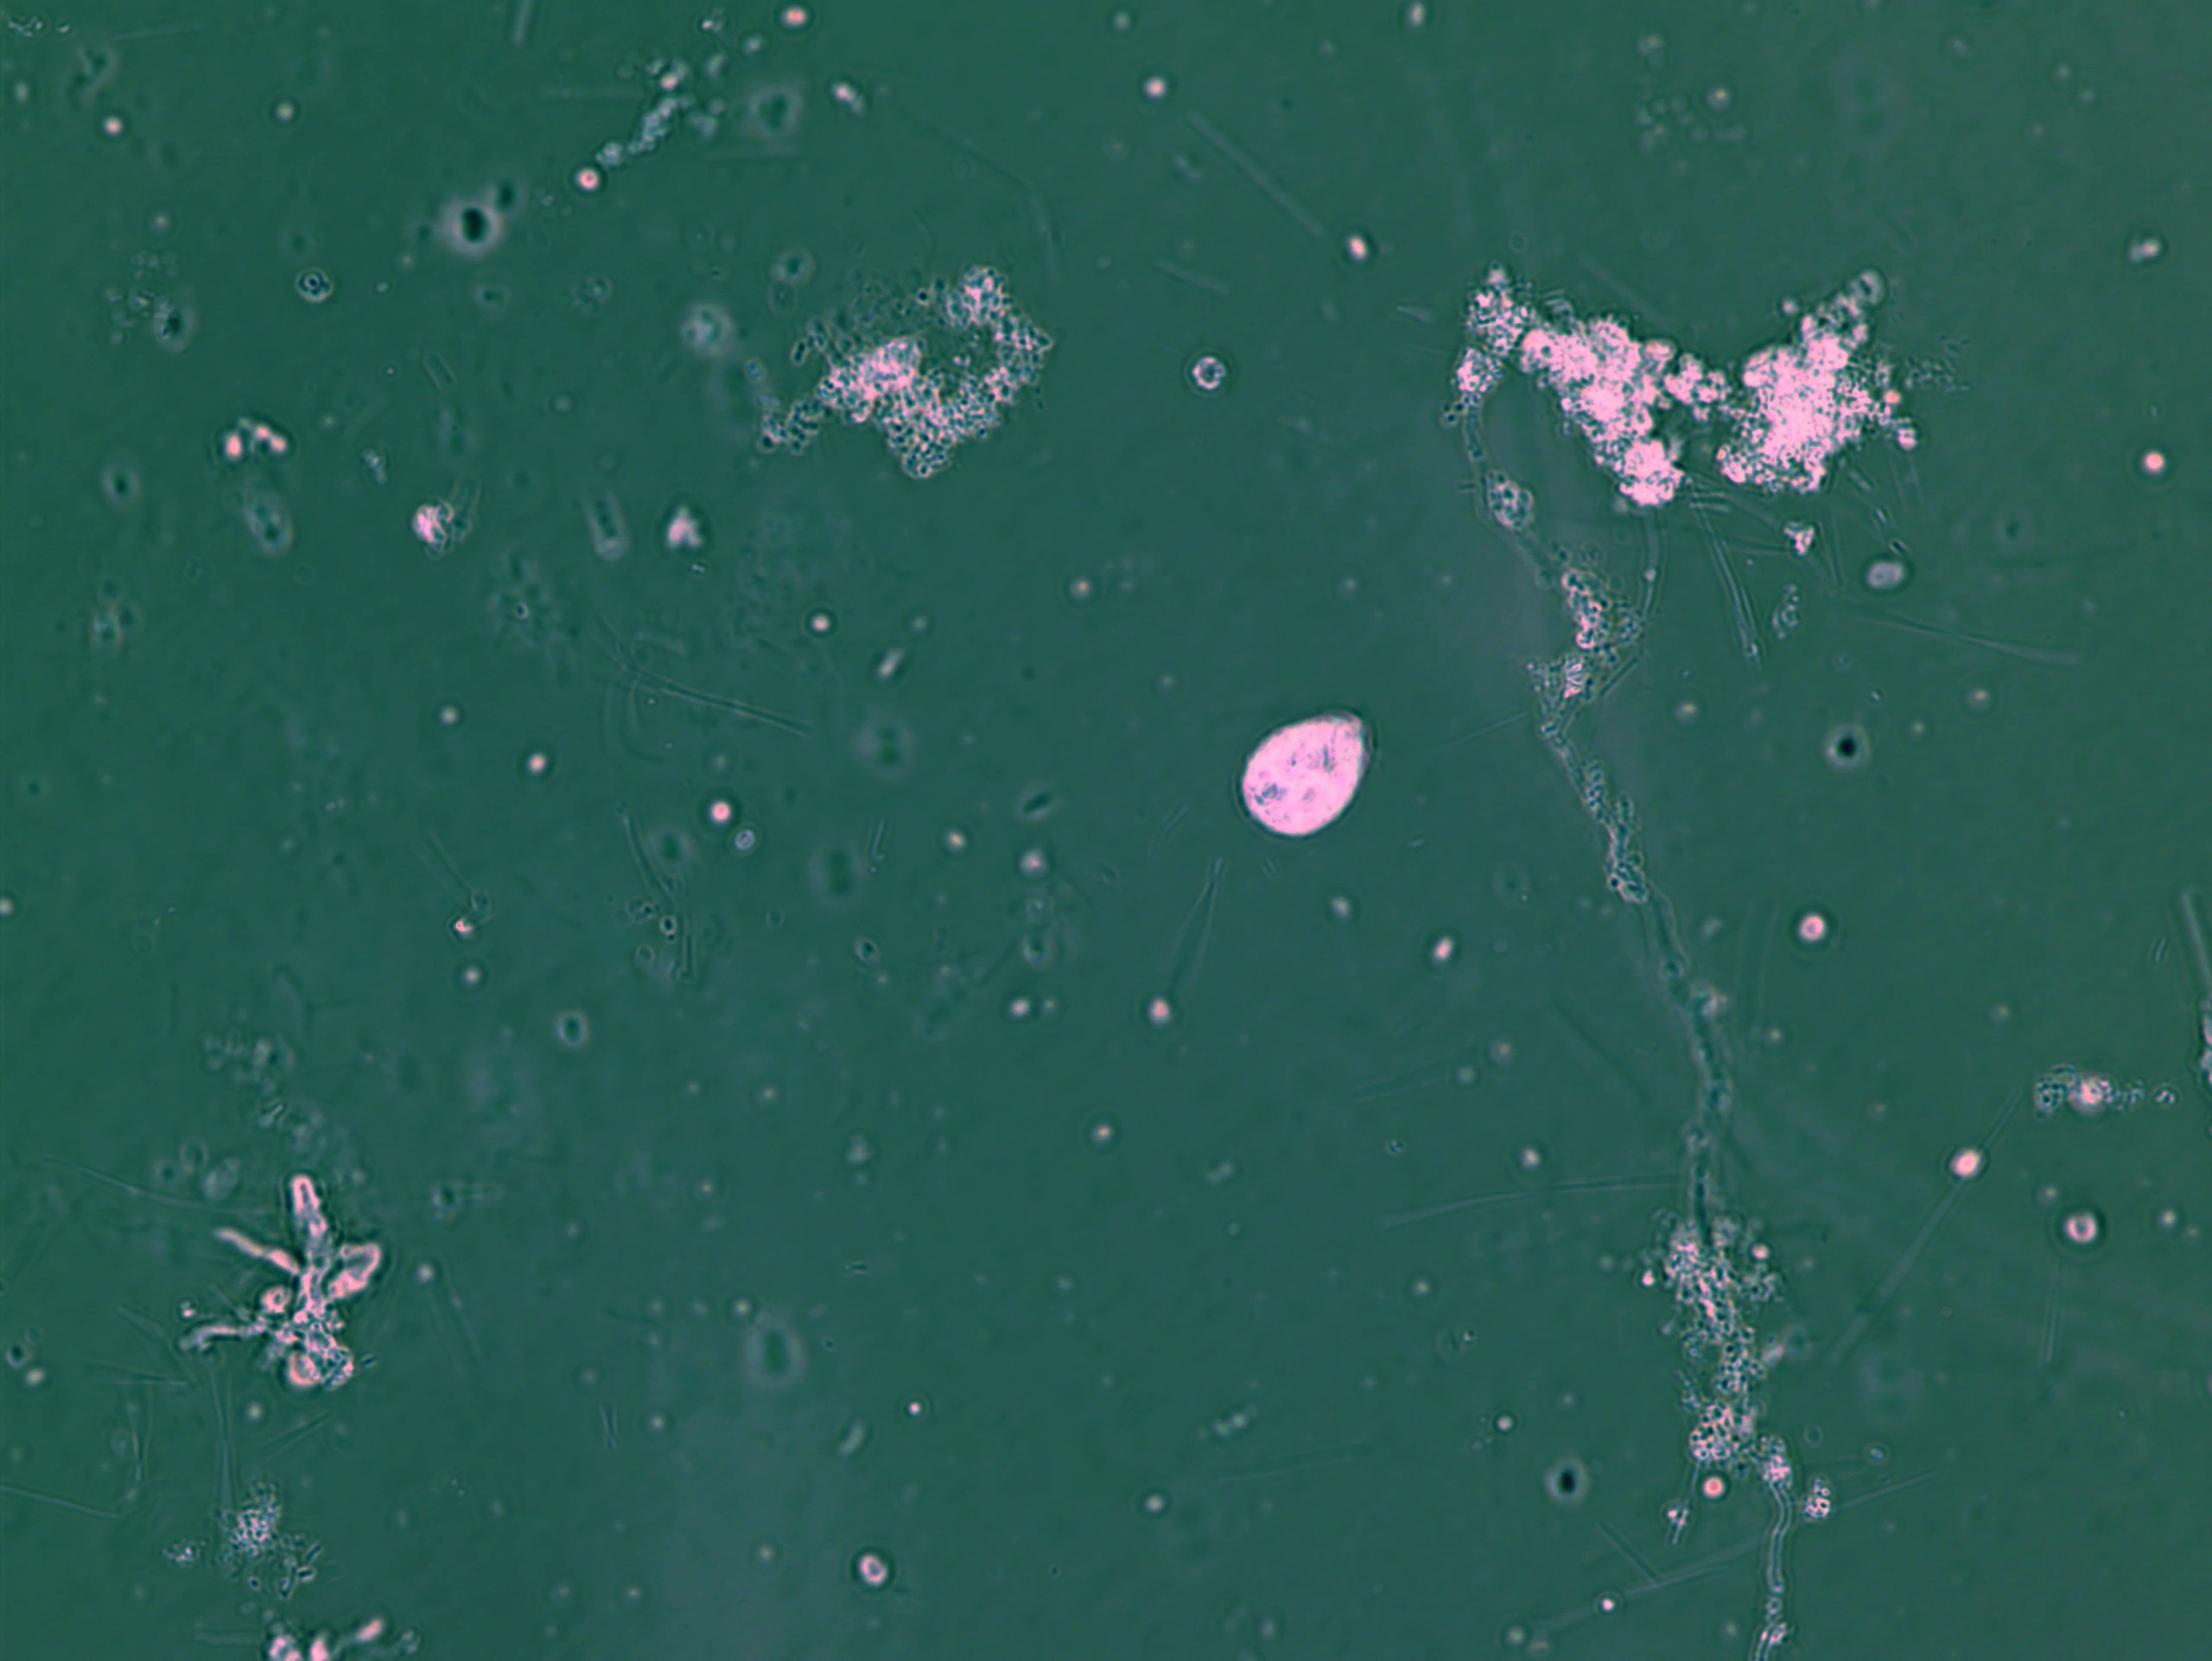depth:20: (1214, 658, 1408, 869)
